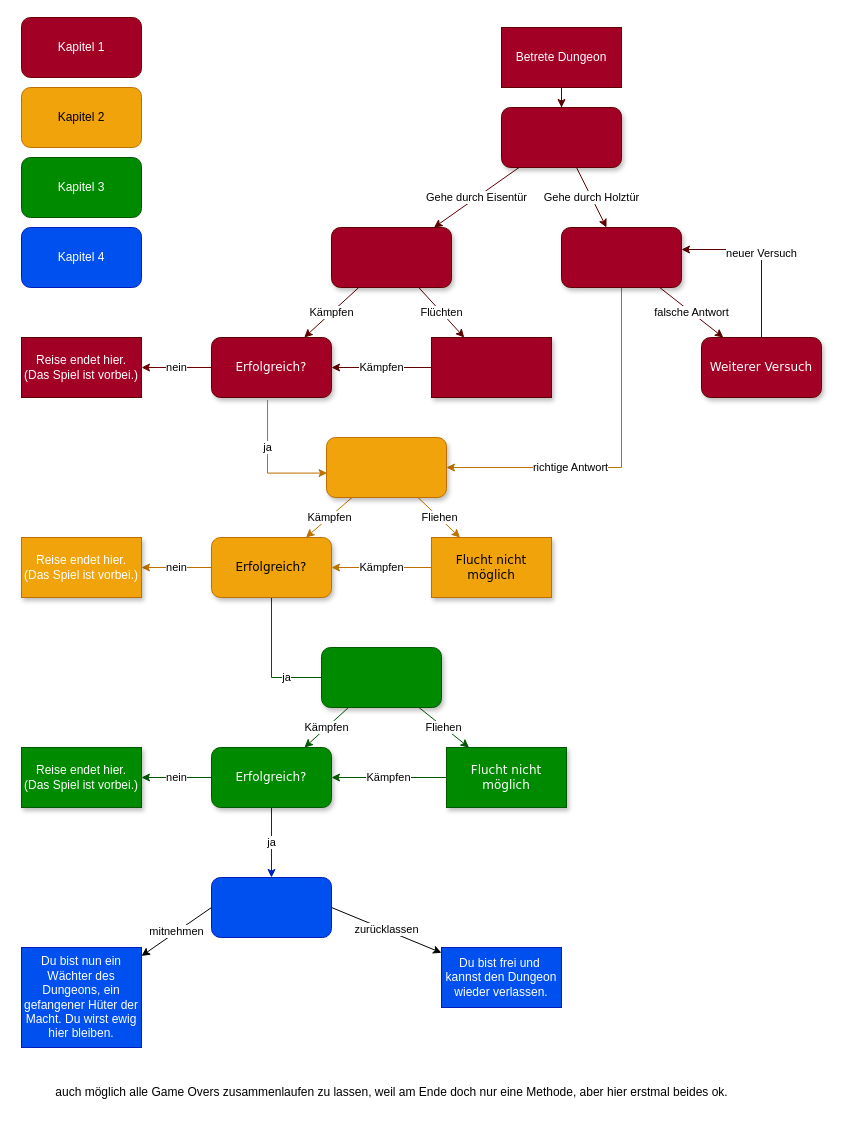
The diagram is 845 pixels wide and 1125 high, and some of its shapes have lost their labels. Each missing label, with the centre of its shape:
2 Türen: pixel 562 138
Artefakt mitnehmen?: pixel 271 907
Feuerdrache taucht auf: pixel 387 468
Flucht nicht möglich.: pixel 492 368
Geisterkrieger taucht auf: pixel 382 678
Rätsel 12 +7: pixel 622 258
Schattengolem taucht auf: pixel 392 258
